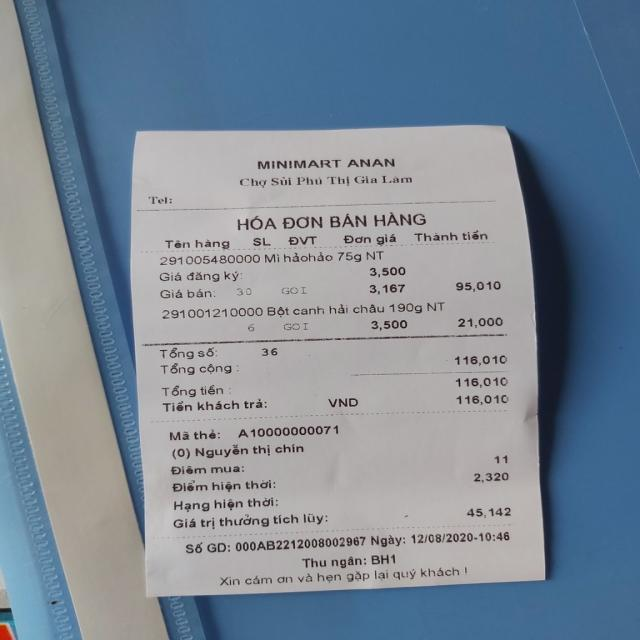Date: (409, 531, 475, 544)
Store_Name: (254, 156, 400, 170)
amount_number: (453, 354, 513, 368)
label_total: (159, 362, 235, 374)
